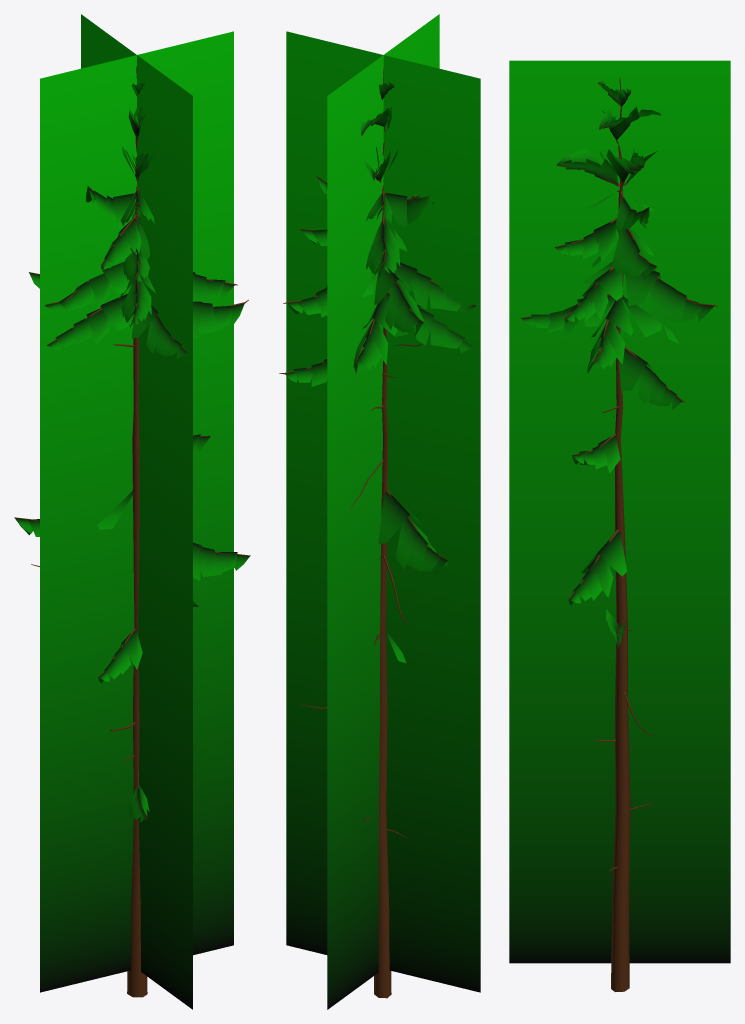
File: IL3DN_Tree_Pine_03.FBX
3 renders of one model, left to right at view 1: azimuth 30°, elevation 25°; view 2: azimuth 150°, elevation 25°; view 3: azimuth 270°, elevation 25°, orthographic.
Visible parts, largest first — view 1: IL3DN_Tree_Pine_03_Card, IL3DN_Tree_Pine_03_Leaves, IL3DN_Tree_Pine_03_Branch_LOD0; view 2: IL3DN_Tree_Pine_03_Card, IL3DN_Tree_Pine_03_Leaves, IL3DN_Tree_Pine_03_Branch_LOD0; view 3: IL3DN_Tree_Pine_03_Card, IL3DN_Tree_Pine_03_Leaves, IL3DN_Tree_Pine_03_Branch_LOD0.
Boxes of the visible parts, left/top/right/bottom form: IL3DN_Tree_Pine_03_Card: left=40, top=14, right=233, bottom=1009; IL3DN_Tree_Pine_03_Leaves: left=15, top=80, right=249, bottom=822; IL3DN_Tree_Pine_03_Branch_LOD0: left=14, top=66, right=250, bottom=997; IL3DN_Tree_Pine_03_Card: left=286, top=14, right=480, bottom=1009; IL3DN_Tree_Pine_03_Leaves: left=285, top=81, right=475, bottom=662; IL3DN_Tree_Pine_03_Branch_LOD0: left=279, top=68, right=476, bottom=998; IL3DN_Tree_Pine_03_Card: left=509, top=60, right=730, bottom=963; IL3DN_Tree_Pine_03_Leaves: left=521, top=80, right=713, bottom=648; IL3DN_Tree_Pine_03_Branch_LOD0: left=521, top=77, right=717, bottom=991.
Size of what is drawn, in the model's own units: 158 by 728 by 157.
